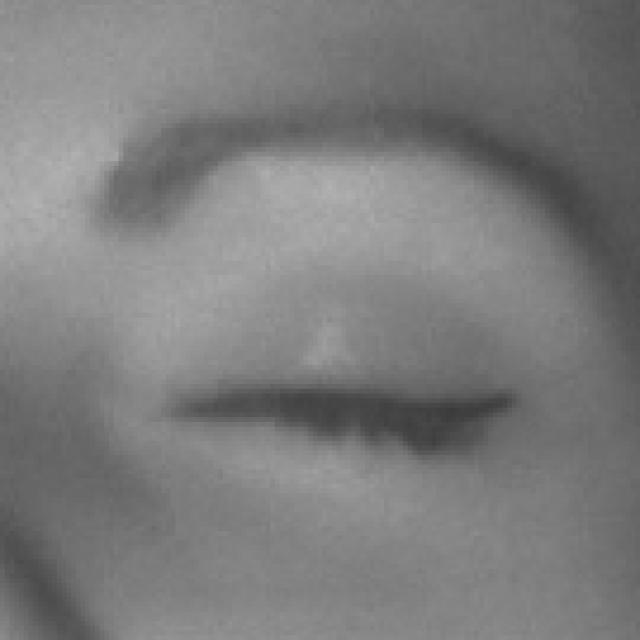close: (60, 40, 640, 578)
